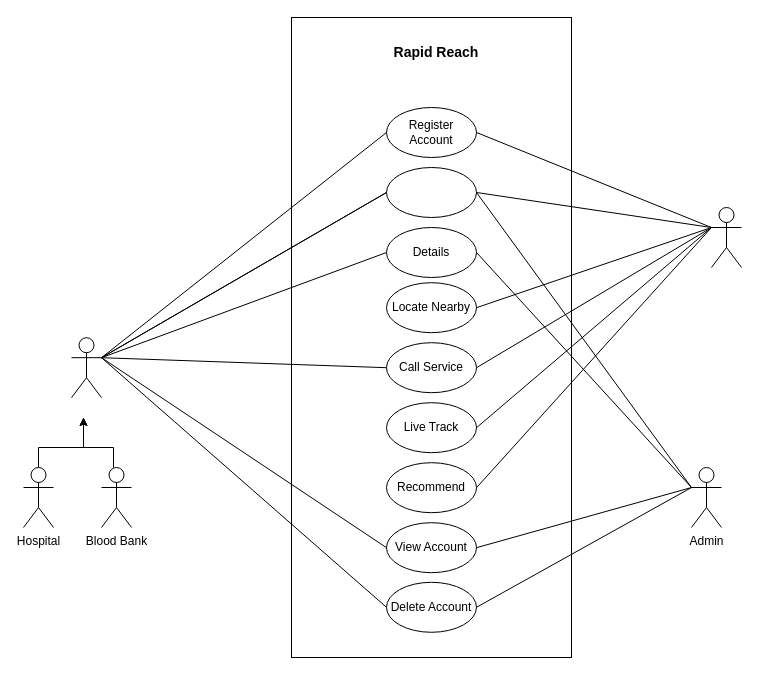
This 759x675 diagram has some shape labels left out. Here are the shapes that lost their labels. From the top down, the centre of each, then its label:
(x=431, y=192): Login-Logout
(x=726, y=237): User
(x=86, y=367): Health Services
